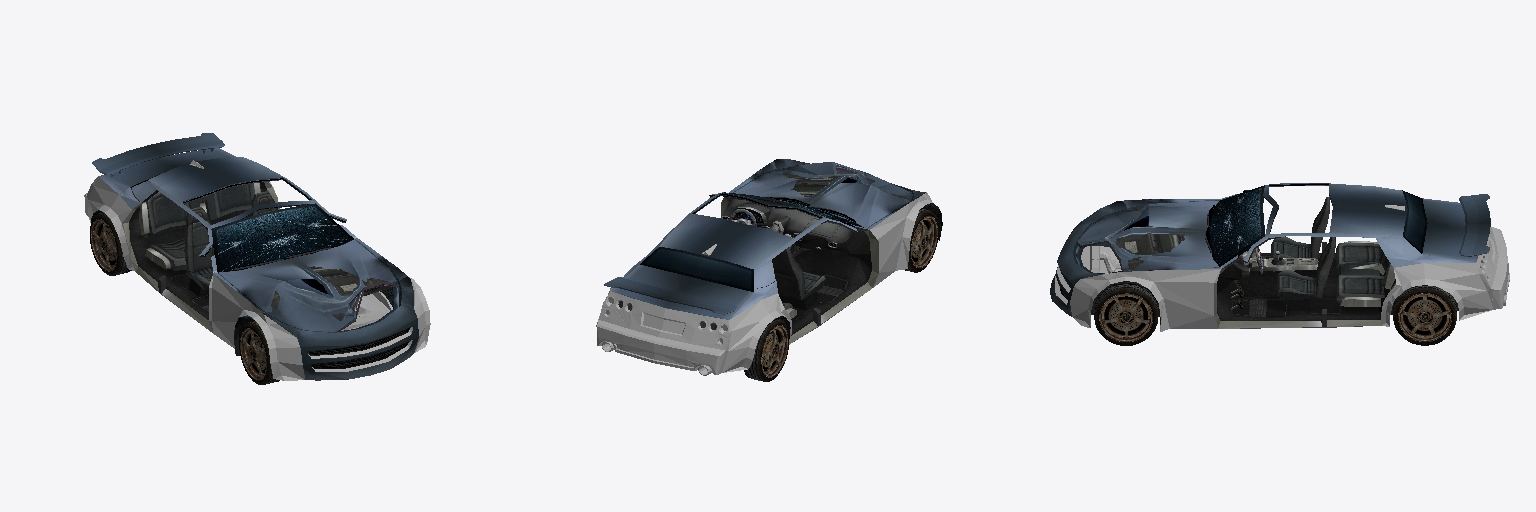
3 renders of one model, left to right at view 1: azimuth 30°, elevation 25°; view 2: azimuth 150°, elevation 25°; view 3: azimuth 270°, elevation 25°, orthographic.
Visible parts, largest first — view 1: Object_sin_car_exterior01a.jpg, Object_sin_car_interior01d.jpg, Object_frame.jpg, Object_window_front_crash.jpg, Object_tire.jpg, Object_sin_car_engine.jpg; view 2: Object_sin_car_exterior01a.jpg, Object_rear.jpg, Object_sin_car_interior01d.jpg, Object_frame.jpg, Object_tire.jpg, Object_sin_car_exterior01a_alpha.jpg; view 3: Object_sin_car_exterior01a.jpg, Object_frame.jpg, Object_sin_car_interior01d.jpg, Object_tire.jpg, Object_window_front_crash.jpg, Object_rear.jpg, Object_sin_car_exterior01a_alpha.jpg, Object_sin_car_engine.jpg.
Part boxes in pixels (x1,y1,x2,y2): Object_sin_car_exterior01a.jpg: (91, 133, 418, 384); Object_sin_car_interior01d.jpg: (123, 182, 279, 332); Object_frame.jpg: (86, 176, 430, 380); Object_window_front_crash.jpg: (211, 203, 353, 272); Object_tire.jpg: (90, 214, 410, 384); Object_sin_car_engine.jpg: (341, 291, 392, 330); Object_sin_car_exterior01a.jpg: (604, 159, 942, 381); Object_rear.jpg: (596, 244, 728, 375); Object_sin_car_interior01d.jpg: (721, 196, 878, 344); Object_frame.jpg: (601, 192, 932, 372); Object_tire.jpg: (757, 210, 938, 381); Object_sin_car_exterior01a_alpha.jpg: (640, 247, 753, 291); Object_sin_car_exterior01a.jpg: (1050, 183, 1490, 328); Object_frame.jpg: (1055, 241, 1493, 331); Object_sin_car_interior01d.jpg: (1217, 197, 1395, 328); Object_tire.jpg: (1060, 278, 1456, 345); Object_window_front_crash.jpg: (1209, 185, 1264, 266); Object_rear.jpg: (1385, 205, 1509, 309); Object_sin_car_exterior01a_alpha.jpg: (1402, 190, 1427, 253); Object_sin_car_engine.jpg: (1081, 246, 1121, 273).
Bounding box in the file's own units: 1.03 × 0.6232 × 2.5.
11 materials, 5 textured.